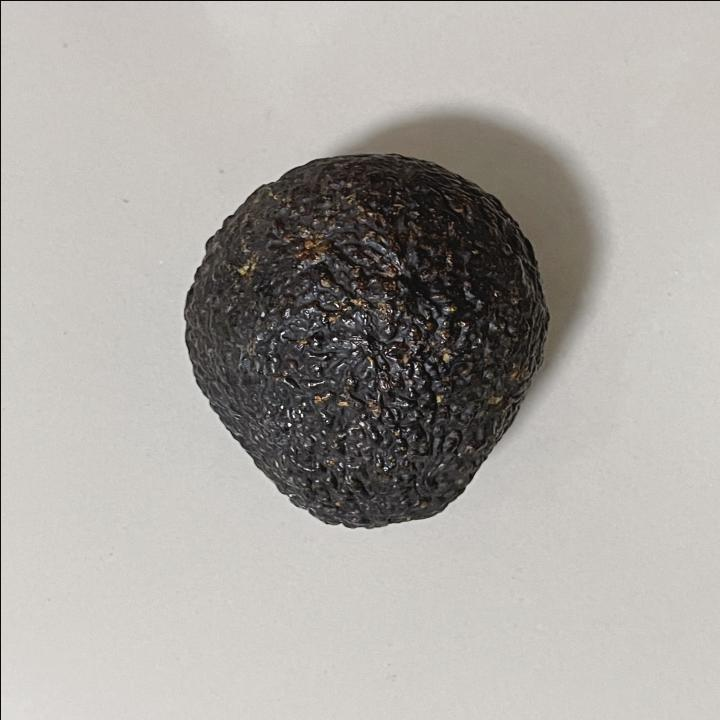Level2: (173, 146, 558, 538)
